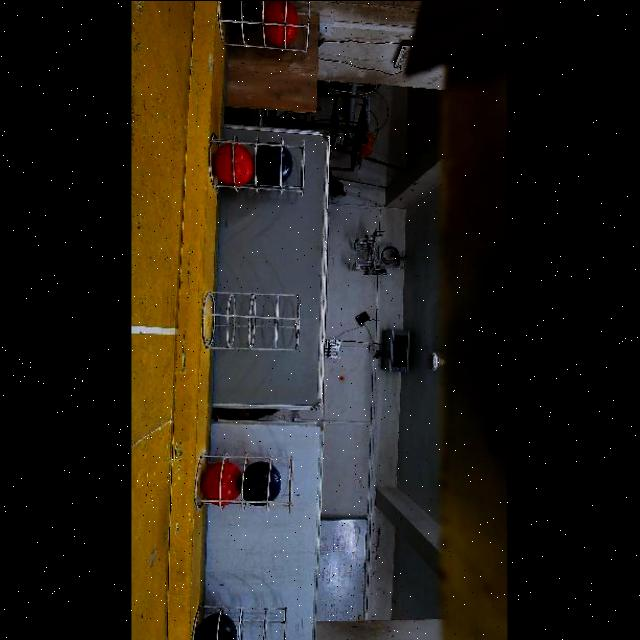P: (241, 461, 282, 506), (257, 141, 294, 184), (225, 0, 263, 35), (196, 612, 238, 640)
R: (203, 461, 242, 505), (214, 144, 254, 184), (265, 0, 300, 44)
S: (199, 449, 295, 516), (202, 132, 308, 192), (212, 292, 298, 353), (225, 0, 308, 50), (197, 606, 293, 640)
